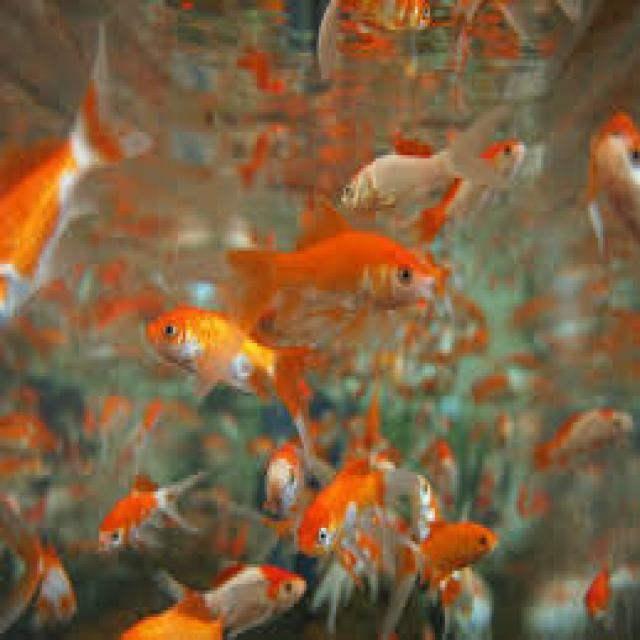goldfish: (229, 208, 446, 339), (146, 305, 314, 418), (299, 455, 398, 585), (161, 564, 305, 640), (99, 472, 205, 549), (339, 151, 459, 210), (534, 409, 632, 471), (421, 522, 498, 584)
